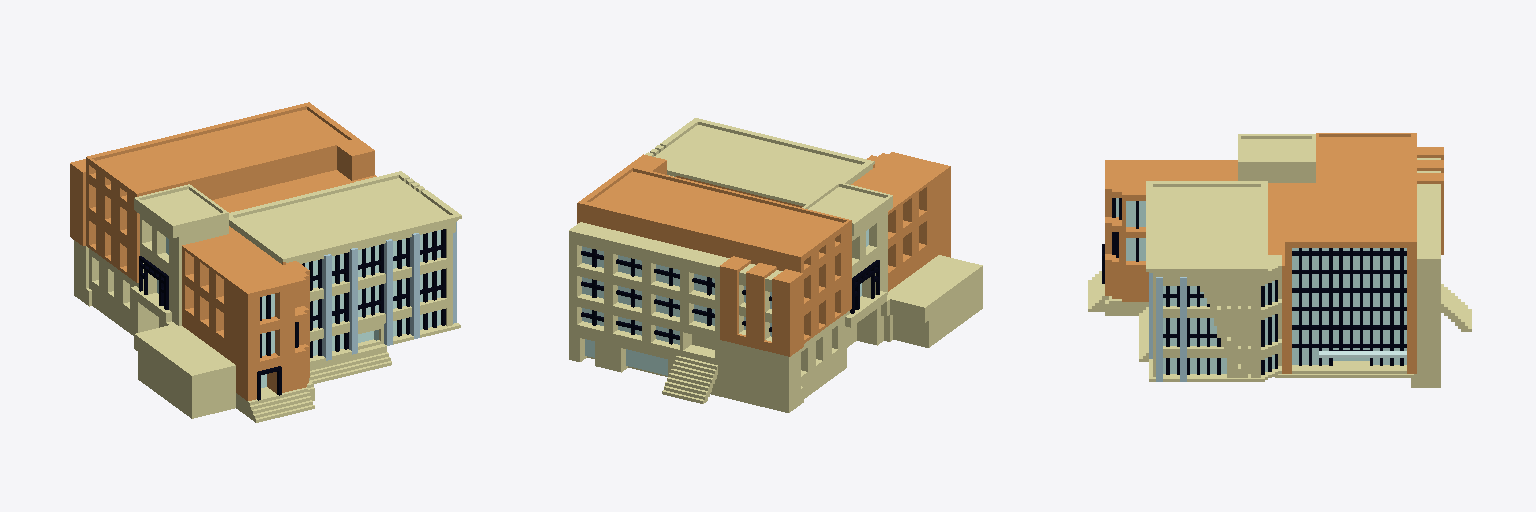
3 views of the same model, side by side, from view 1: azimuth 30°, elevation 25°; view 2: azimuth 150°, elevation 25°; view 3: azimuth 270°, elevation 25° (orthographic).
Parts seen in each view (by area): view 1: 食堂; view 2: 食堂; view 3: 食堂.
Boxes of the visible parts, box(x1,y1,x2,y2) form: 食堂: box(70, 102, 461, 422); 食堂: box(569, 118, 982, 412); 食堂: box(1088, 133, 1471, 387).
Size of the model in its own units: 95 by 48 by 113.
1 materials, 1 textured.